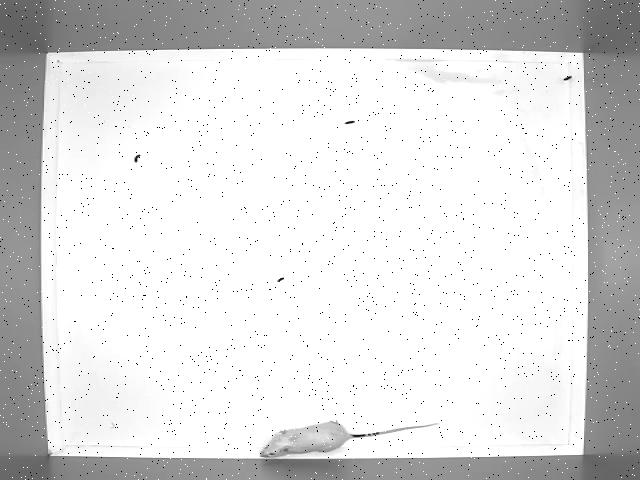Tikus: (254, 419, 446, 457)
